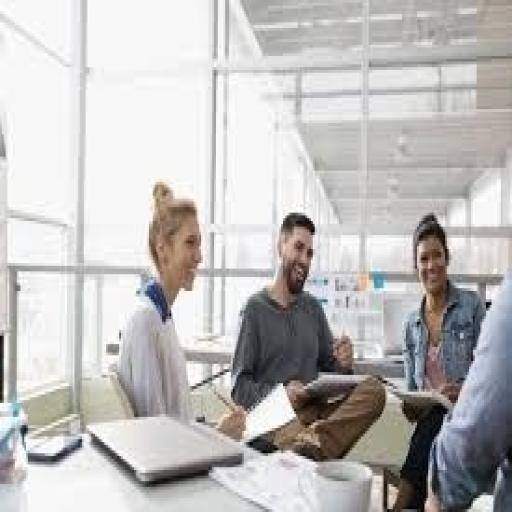sitting: (112, 174, 502, 506), (229, 207, 385, 459), (114, 176, 248, 442), (389, 210, 488, 509)
